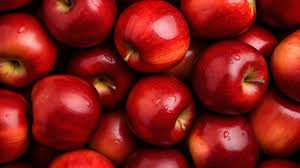apple: (43, 150, 114, 168)
